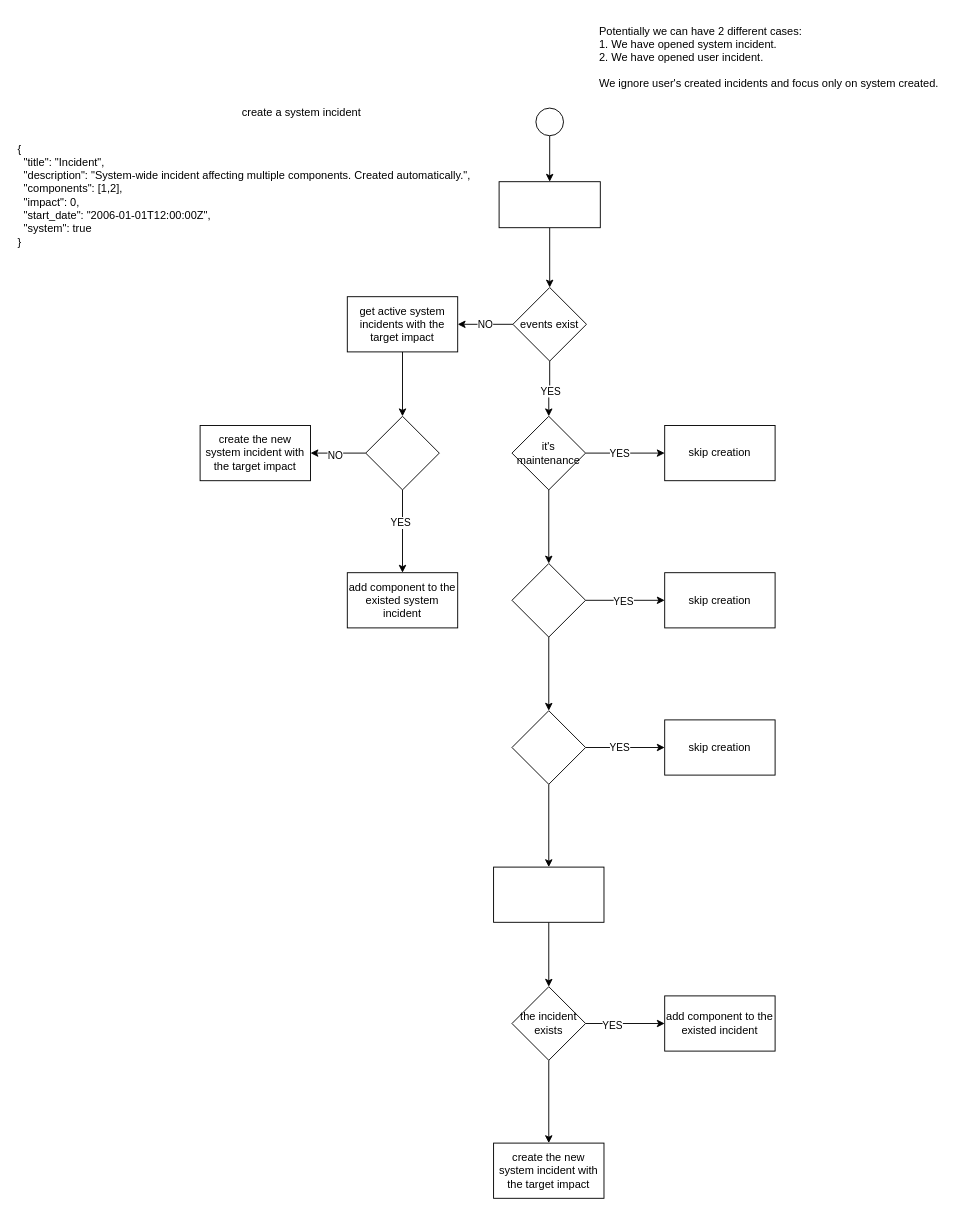
This 972x1214 diagram has some shape labels left out. Here are the shapes that lost their labels. From the top down, the centre of each, then its label:
At point 549,204: "get active events for a component".
At point 402,452: "event exists".
At point 548,600: "the event is not system".
At point 548,747: "The impact of existed event more or equal than incoming".
At point 548,894: "get system incident with target impact".
